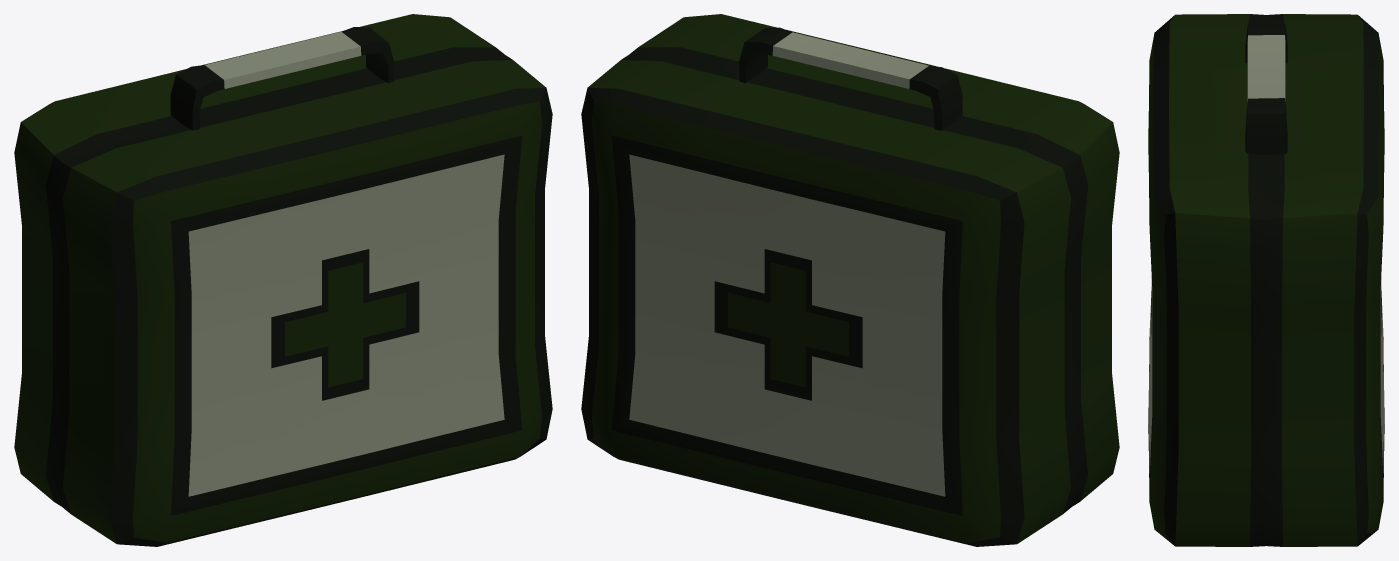
File: Health.obj
3 renders of one model, left to right at view 1: azimuth 30°, elevation 25°; view 2: azimuth 150°, elevation 25°; view 3: azimuth 270°, elevation 25°, orthographic. The views are drawn at different scales.
Parts seen in each view (by area): view 1: Health_Cube.006; view 2: Health_Cube.006; view 3: Health_Cube.006.
Part boxes in pixels (left/top/right/bottom): Health_Cube.006: left=14, top=14, right=552, bottom=546; Health_Cube.006: left=581, top=14, right=1119, bottom=546; Health_Cube.006: left=1148, top=14, right=1384, bottom=546.
Size of the model in its own units: 0.861 by 0.7376 by 0.4039.
